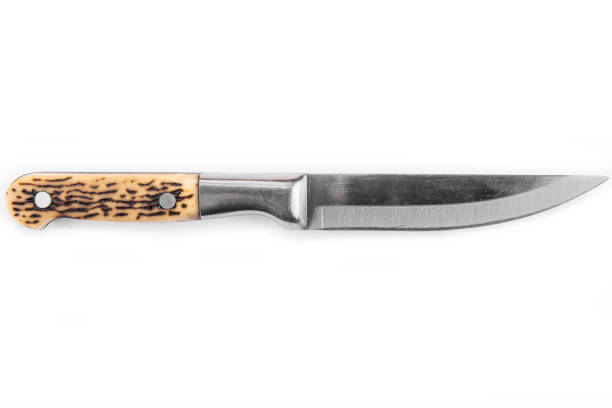knife: (3, 169, 609, 232)
